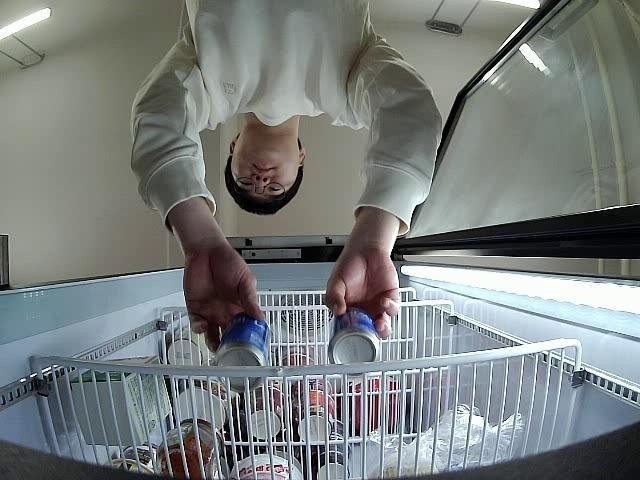15_letsbe: (212, 312, 274, 391), (324, 305, 383, 376)
